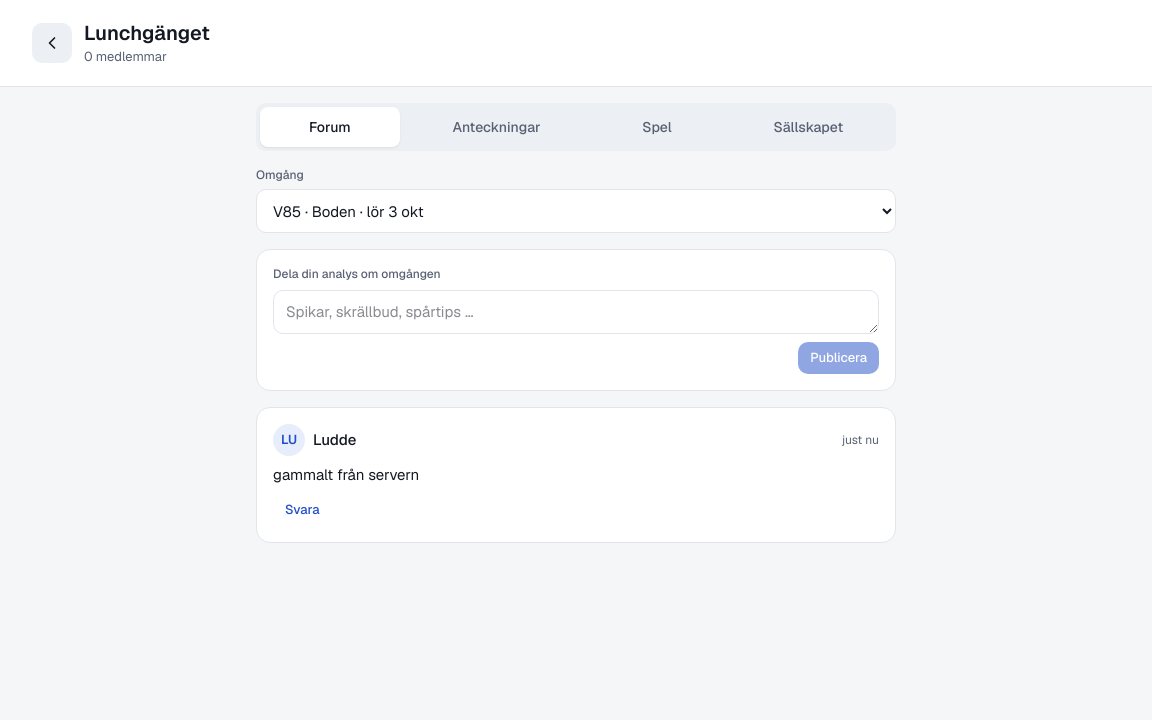
Test case: sällskapets gemensamma omgångsväljare › serverdatan används bara första gången; tillbaka till standardomgången hämtas färskt
Select "V85 · Boden · lör 3 okt" in the dropdown labelled "Omgång": (576, 211) x1=256 y1=189 x2=896 y2=233
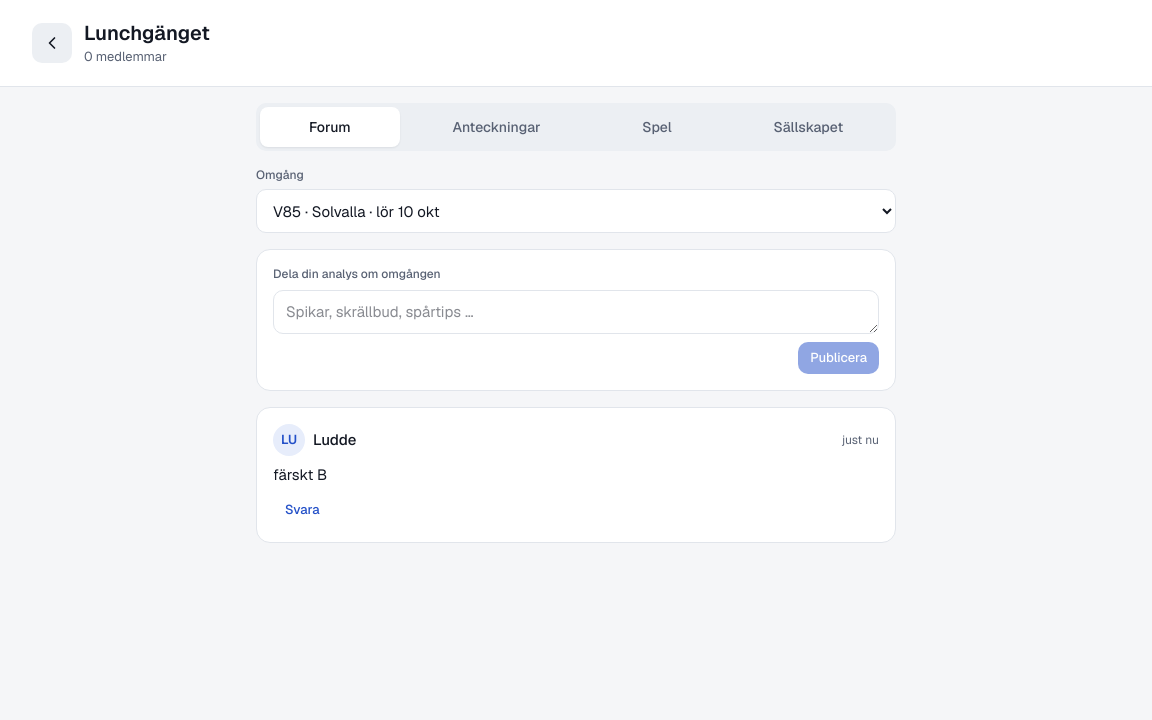
Check: the text "färskt B" is shown, box x1=273 y1=465 x2=327 y2=484
Select "V85 · Solvalla · lör 10 okt" in the dropdown labelled "Omgång": (576, 211) x1=256 y1=189 x2=896 y2=233
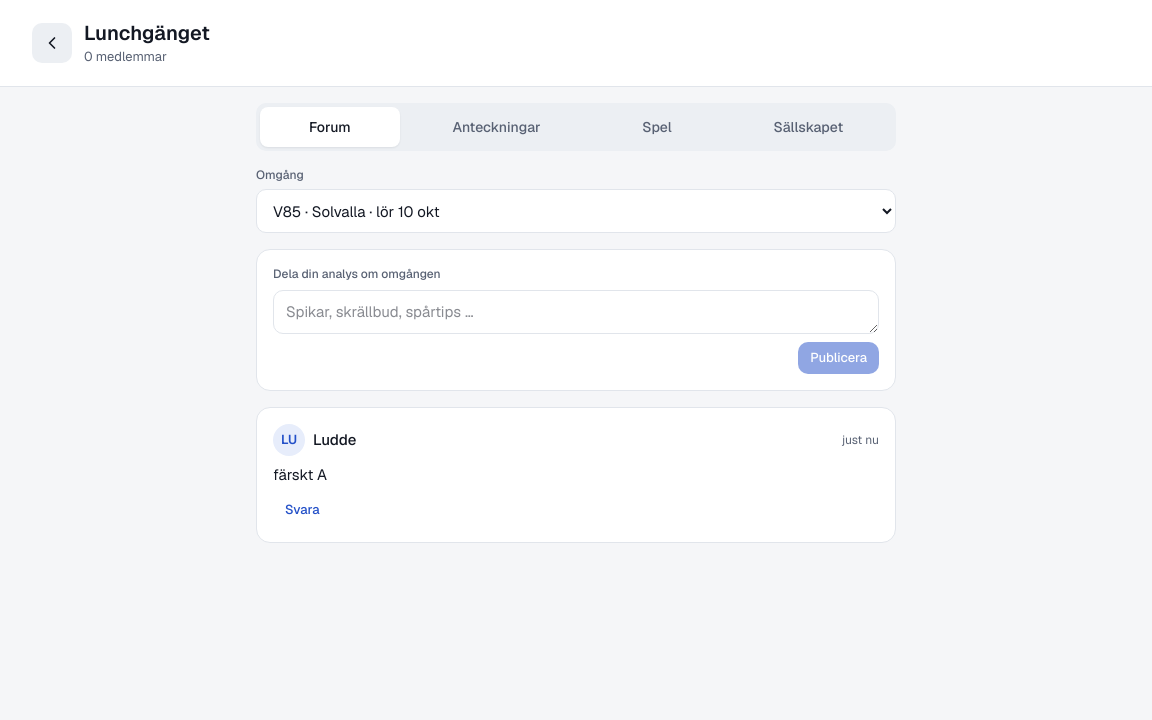
Check: the text "gammalt från servern" is not shown
Check: the text "färskt A" is shown, box x1=273 y1=465 x2=327 y2=484
